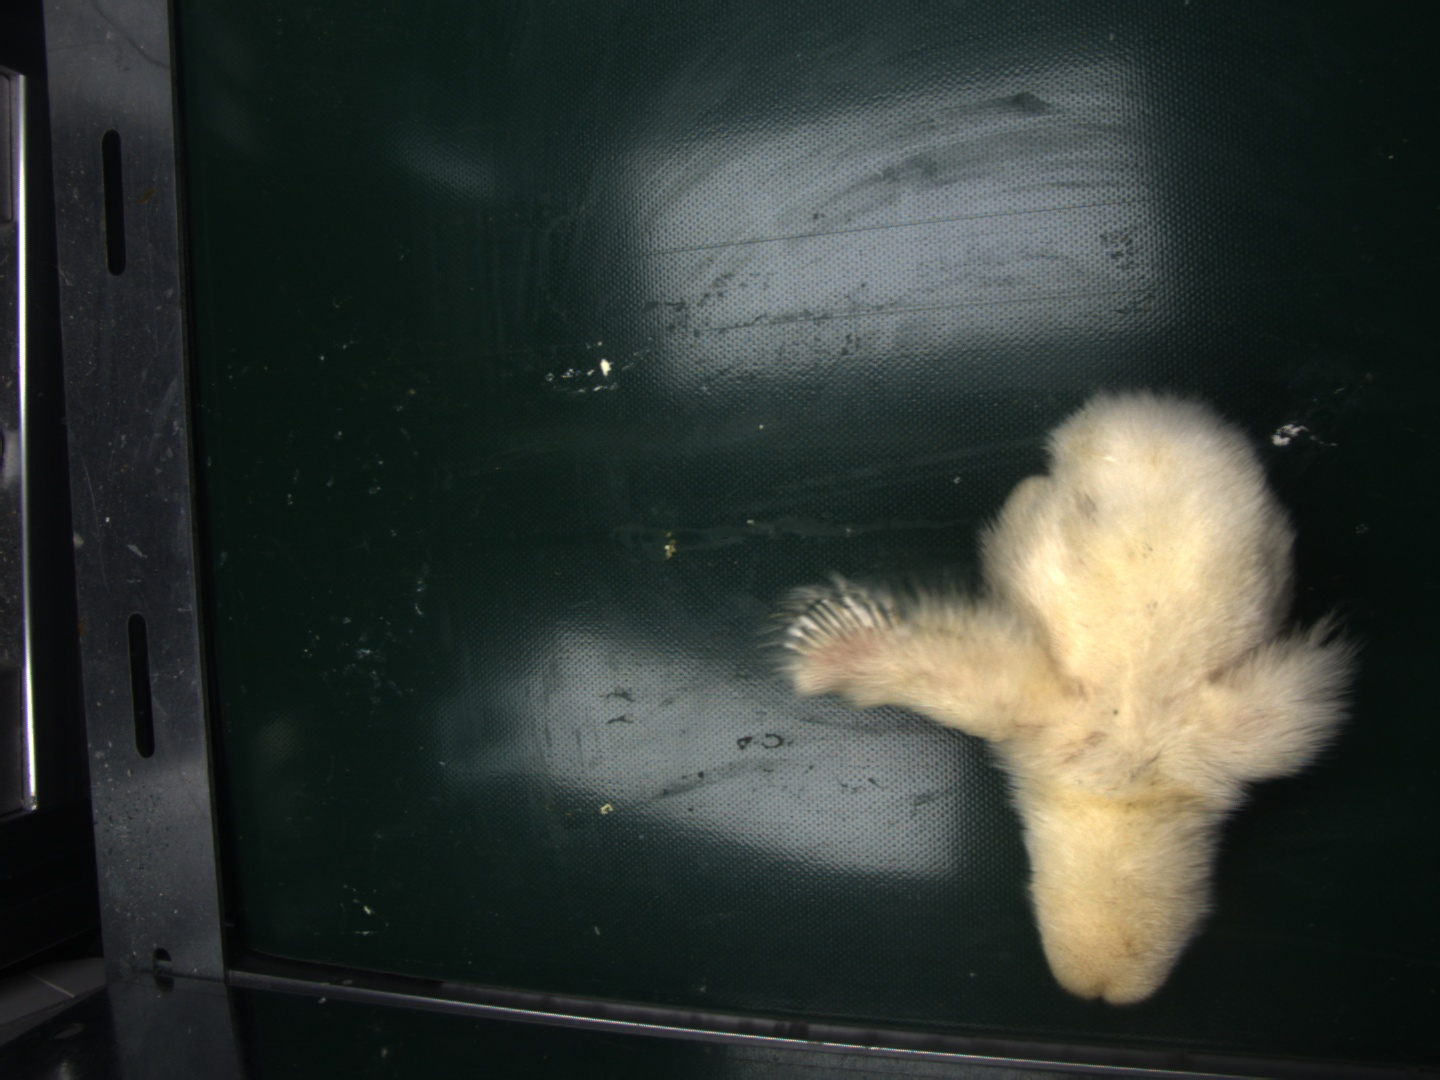male: (797, 604, 880, 656)
